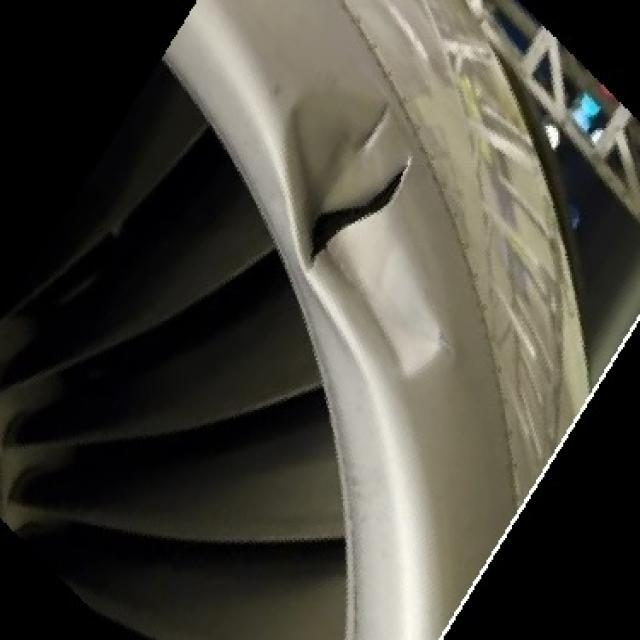crack: (293, 149, 426, 275)
